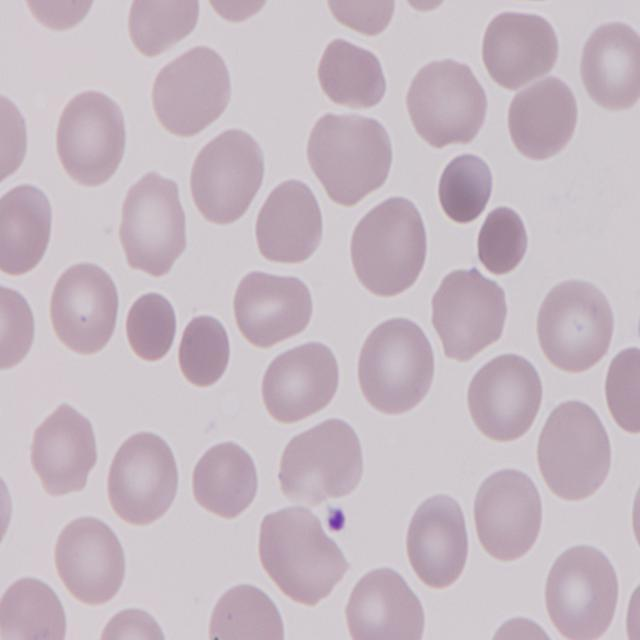RBC: (256, 504, 349, 610), (305, 108, 398, 207), (356, 313, 440, 419), (534, 400, 614, 506), (114, 172, 190, 281), (350, 197, 430, 299), (532, 275, 616, 372), (542, 540, 624, 638), (406, 59, 492, 152), (188, 128, 267, 228), (430, 266, 512, 360), (150, 42, 233, 134), (52, 86, 126, 188), (472, 466, 546, 568), (45, 262, 123, 358), (466, 353, 545, 447), (274, 420, 362, 504), (105, 433, 182, 528), (52, 510, 126, 608), (26, 402, 100, 500), (230, 266, 317, 349), (260, 338, 342, 424), (505, 72, 584, 160), (481, 12, 564, 92), (404, 494, 470, 594), (313, 36, 393, 115), (575, 16, 640, 113), (256, 178, 326, 266), (344, 567, 426, 640), (190, 439, 262, 519), (147, 302, 218, 376), (121, 1, 205, 62), (1, 182, 54, 276), (206, 581, 288, 640), (0, 574, 68, 640), (0, 278, 38, 372), (605, 339, 640, 436), (324, 0, 404, 38), (0, 86, 31, 182), (15, 0, 106, 31), (94, 608, 176, 640), (196, 0, 274, 28), (485, 615, 555, 640)
Spherocyte: (174, 311, 236, 391), (434, 146, 494, 223), (121, 288, 180, 364), (475, 202, 532, 276)
